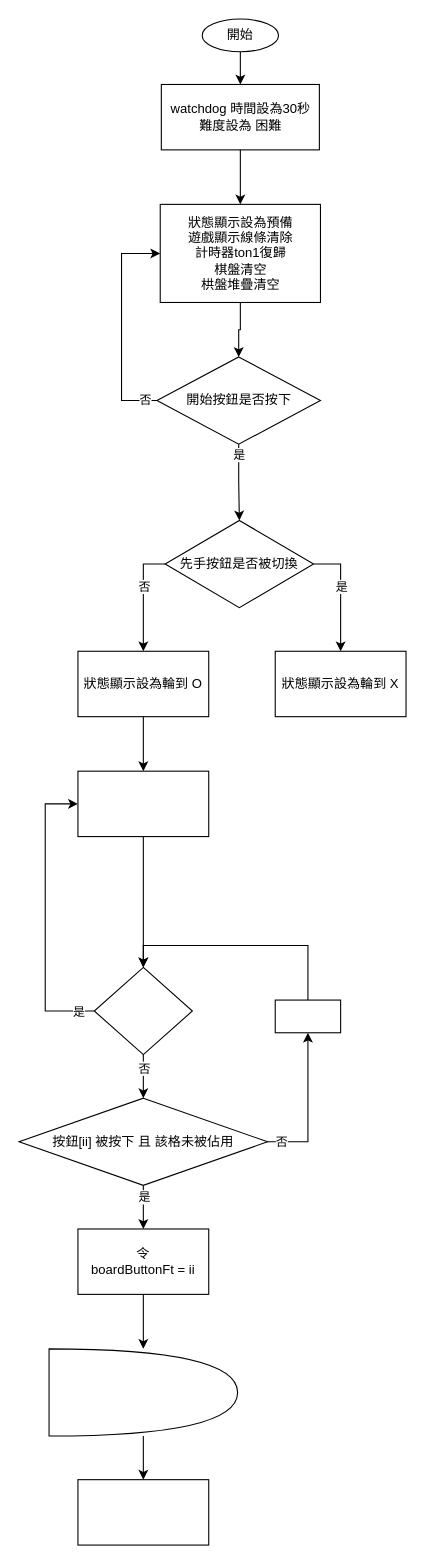
Image size: 425x1564. Some labels were removed from this diagram. The box of each missing label's shape, as (x1, y1, x2, y2) in pixels:
ii = ii + 1: (274, 999, 341, 1033)
ii == 8: (93, 966, 192, 1055)
令 ii = 0: (77, 770, 209, 837)
等待按鈕 [boardButtonFt] 放開: (48, 1348, 238, 1436)
